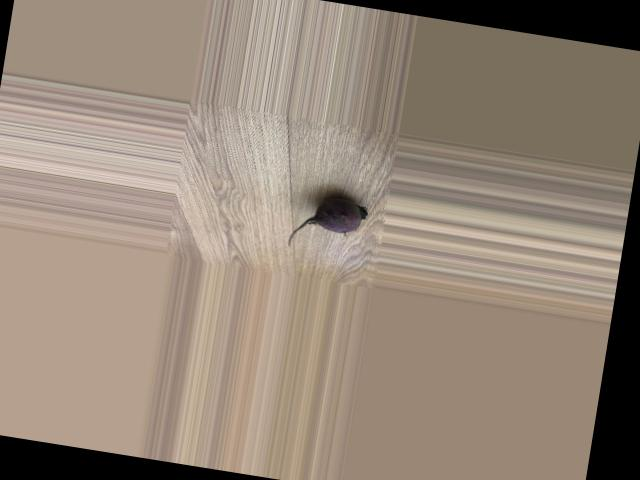beet: (285, 190, 367, 257)
